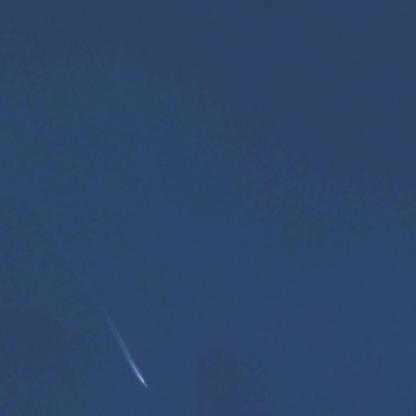ship: (122, 378, 133, 390)
